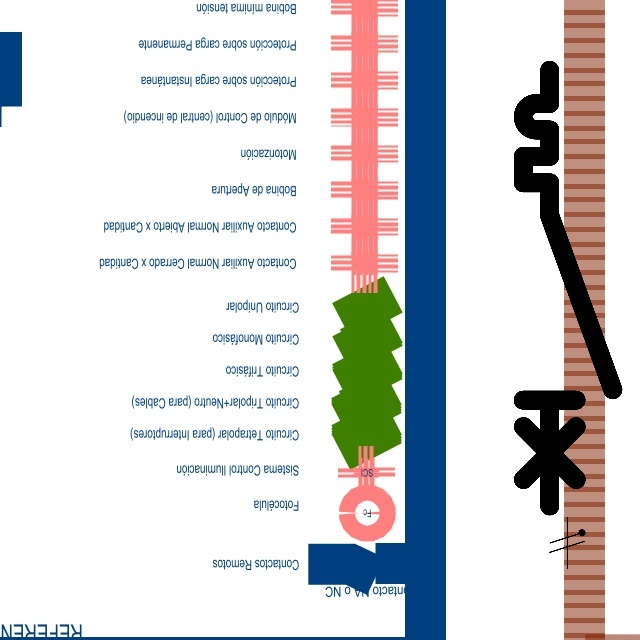interruptor_termomagnetico: (512, 59, 624, 517)
